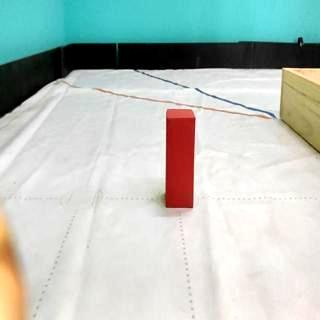redbox: (166, 108, 196, 208)
